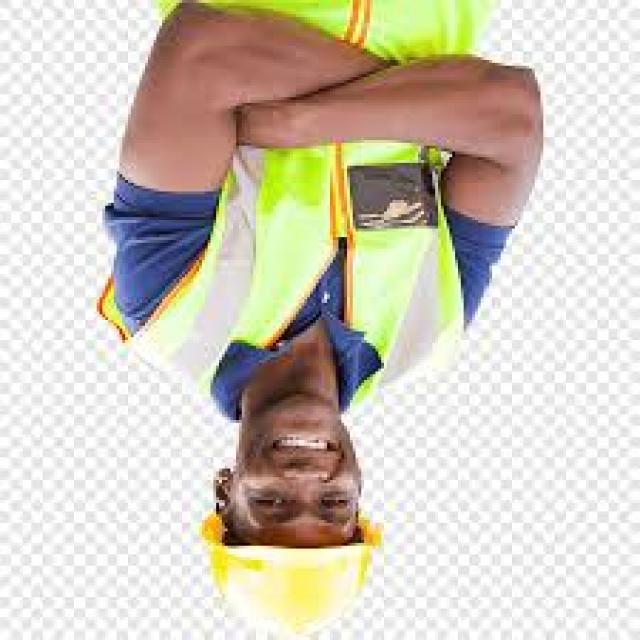safetyhelmet: (202, 437, 379, 638)
